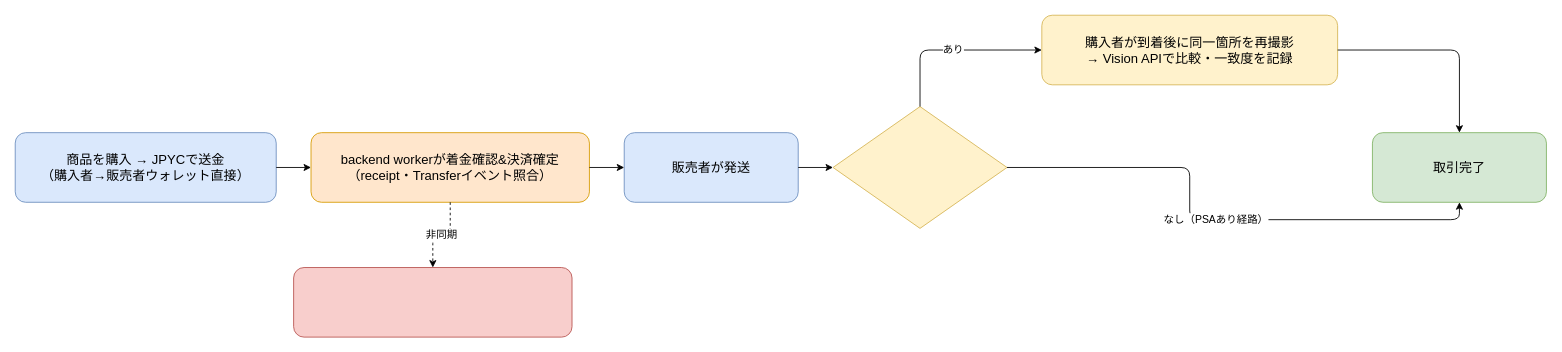
Some shapes in this 1562 by 352 pixel diagram are drawn without their labels. Here are the shapes that lost their labels. From the top down, the centre of each, then its label:
At point 919,167: "出品時にVision経路 （PSAなし）だったか?".
At point 432,302: "取引記録をハッシュ化し ブロックチェーンへ非同期記録".
